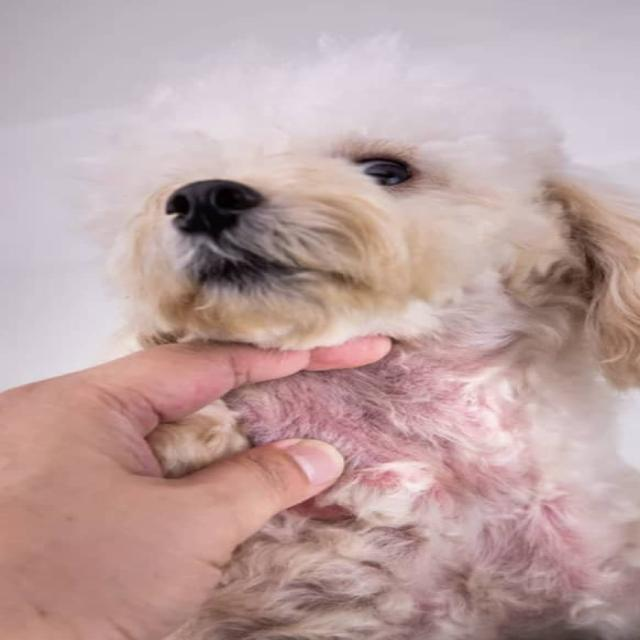fungal infection: (253, 382, 524, 436), (350, 451, 559, 514), (473, 513, 594, 581)
